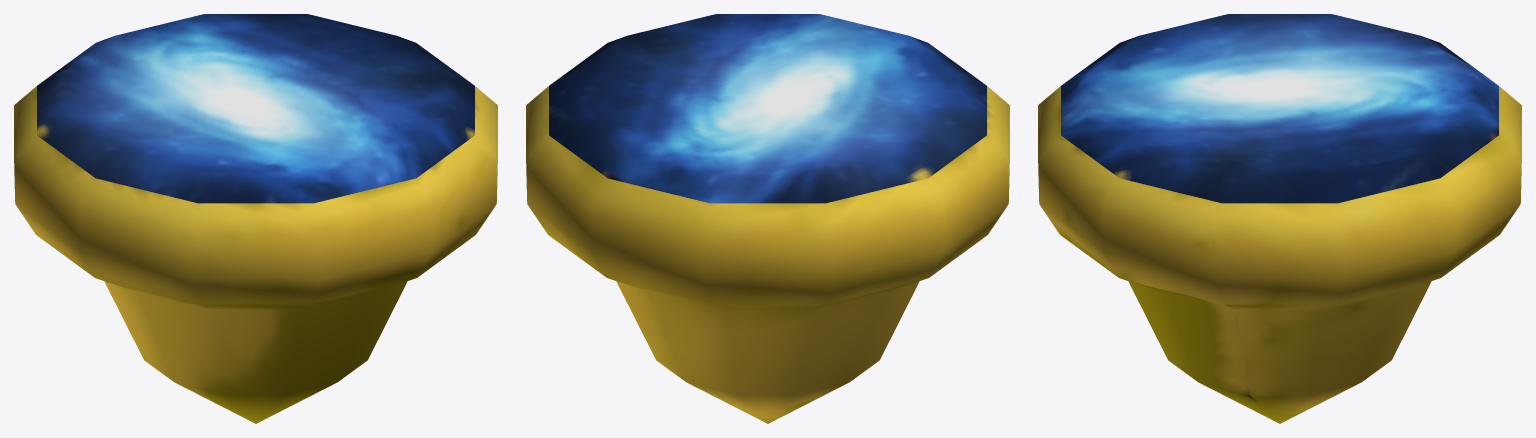
The model's file is dwudz.FBX.
The picture shows the model from 3 angles, left to right: view 1: azimuth 30°, elevation 25°; view 2: azimuth 150°, elevation 25°; view 3: azimuth 270°, elevation 25°; orthographic projection.
Visible parts, largest first — view 1: dwudz; view 2: dwudz; view 3: dwudz.
Part boxes in pixels (box(x1,y1,x2,y2)): dwudz: box(14, 14, 497, 423); dwudz: box(526, 14, 1009, 423); dwudz: box(1038, 14, 1521, 423).
Size of the model in its own units: 12.04 by 9.02 by 12.04.
1 material, 1 textured.
